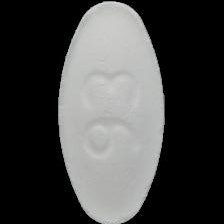0093-0132: (0, 0, 224, 224)
